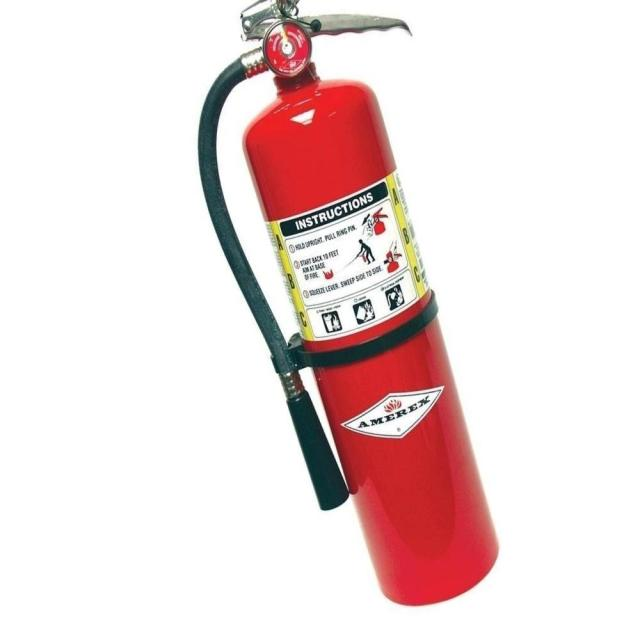fire_extinguisher: (189, 0, 506, 611)
